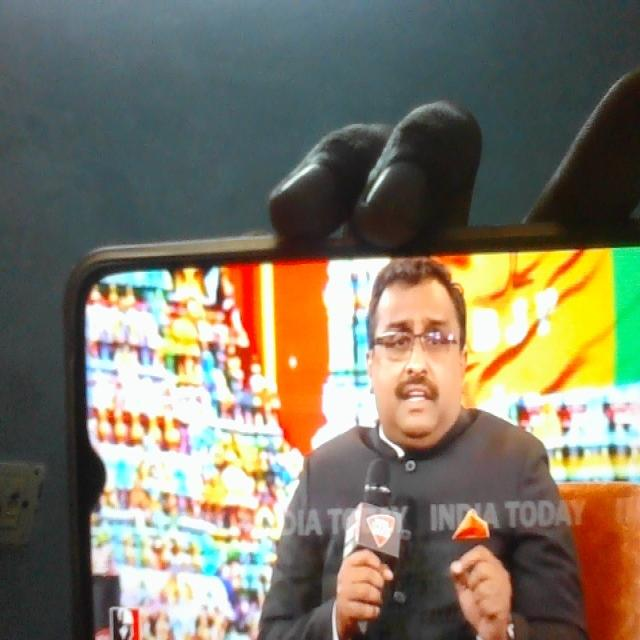fake: (360, 245, 474, 460)
